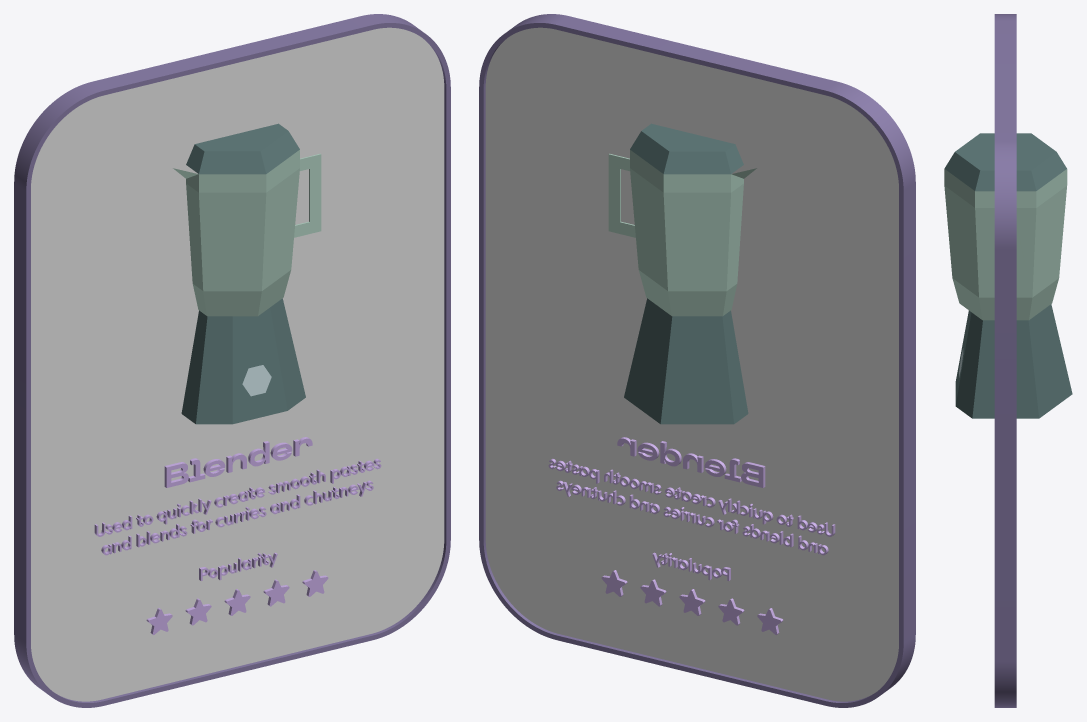
Rendered from blender.glb.
3 renders of one model, left to right at view 1: azimuth 30°, elevation 25°; view 2: azimuth 150°, elevation 25°; view 3: azimuth 270°, elevation 25°, orthographic. The views are drawn at different scales.
Parts seen in each view (by area): view 1: Mesh_614.002, kitchenBlender, Mesh_2376.002, Mesh_1104.002, Mesh_2571.002, Mesh_2641.001; view 2: Mesh_614.002, kitchenBlender, Mesh_2376.002, Mesh_1104.002, Mesh_2571.002, Mesh_2641.001; view 3: kitchenBlender, Mesh_2376.002.
Part boxes in pixels (box(x1,y1,x2,y2)): Mesh_614.002: box(31, 27, 444, 701); kitchenBlender: box(173, 123, 321, 424); Mesh_2376.002: box(14, 14, 450, 707); Mesh_1104.002: box(94, 458, 381, 580); Mesh_2571.002: box(164, 437, 312, 487); Mesh_2641.001: box(146, 570, 328, 634); Mesh_614.002: box(485, 27, 898, 701); kitchenBlender: box(608, 123, 756, 424); Mesh_2376.002: box(479, 14, 915, 707); Mesh_1104.002: box(548, 458, 835, 580); Mesh_2571.002: box(617, 437, 765, 487); Mesh_2641.001: box(601, 570, 783, 634); kitchenBlender: box(944, 133, 1072, 418); Mesh_2376.002: box(994, 14, 1016, 707).
Size of the model in its own units: 9.06 by 12.55 by 2.61.
